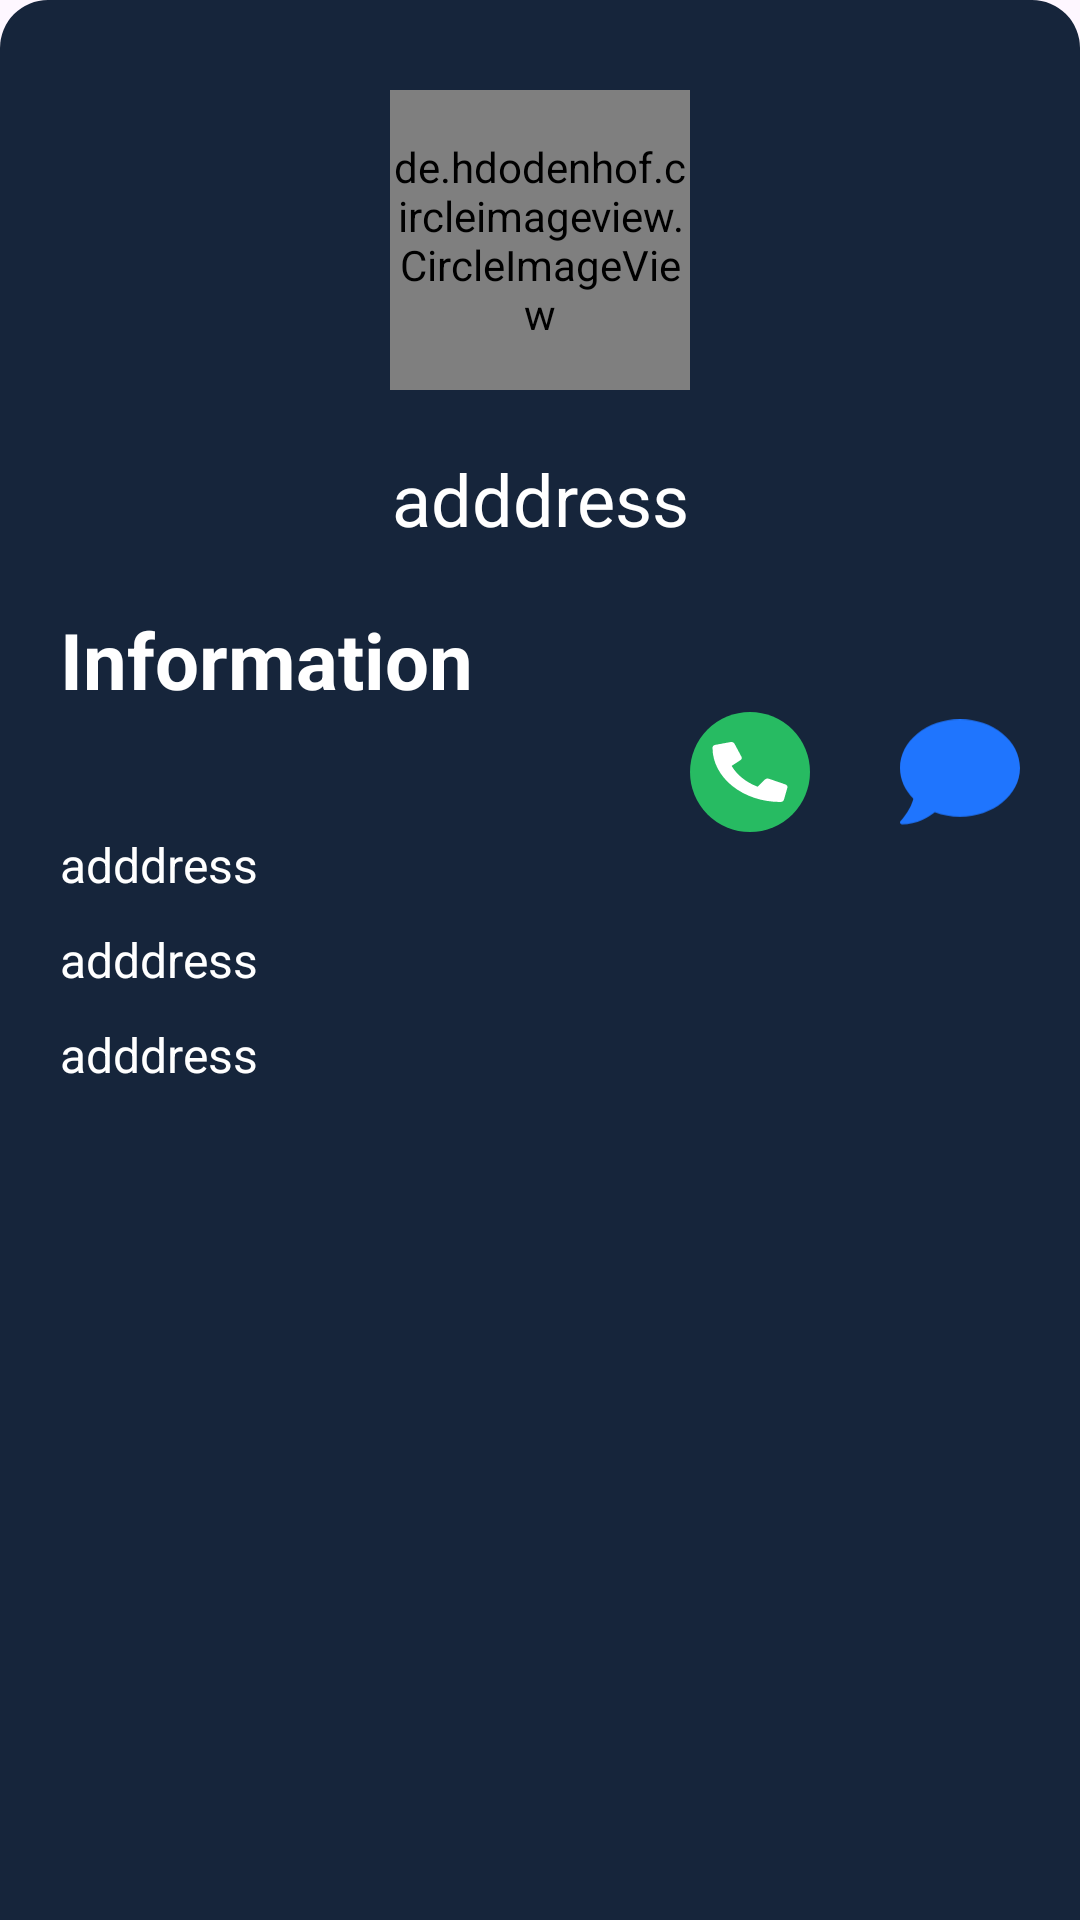

Screen size 1080 x 1920. Icon name, then its box in pixels as Rect(x1, y1, x2, y2):
bottom nav message: Rect(900, 719, 1020, 825)
call: Rect(690, 712, 810, 832)
